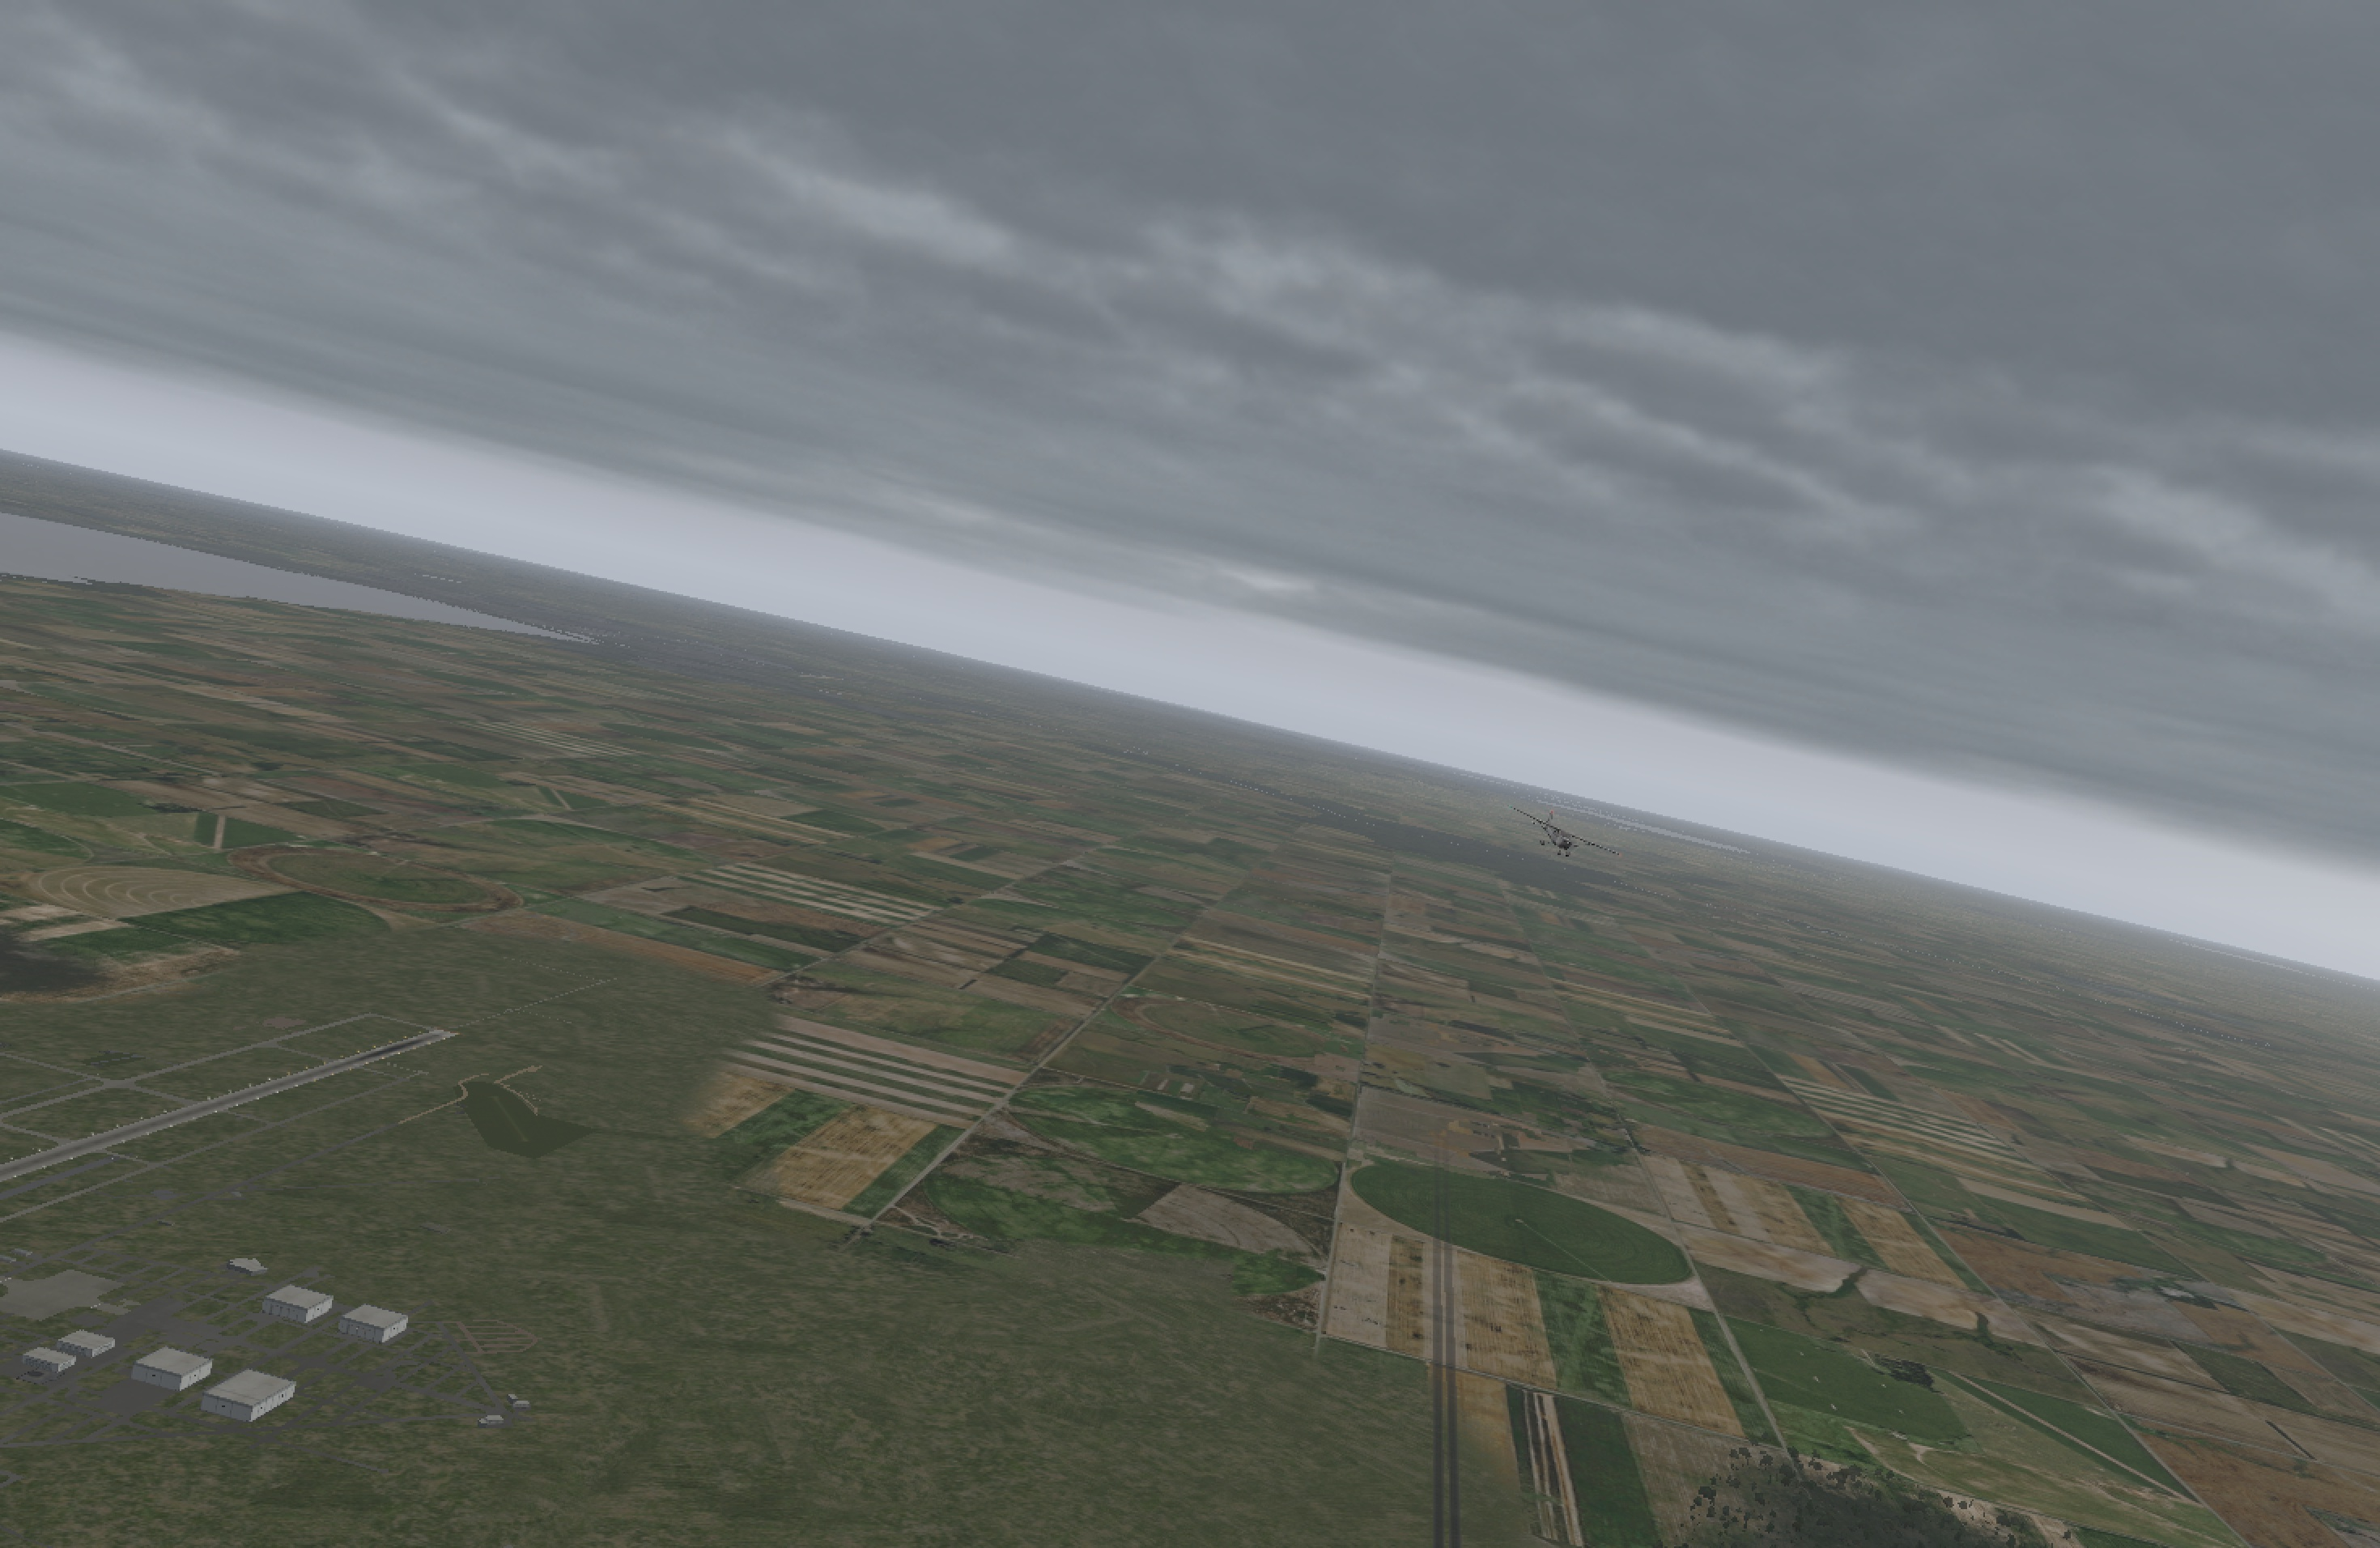aircraft: (1516, 821, 1606, 854)
